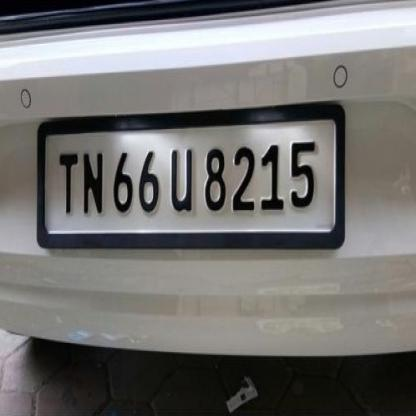license_plate: (43, 115, 334, 232)
